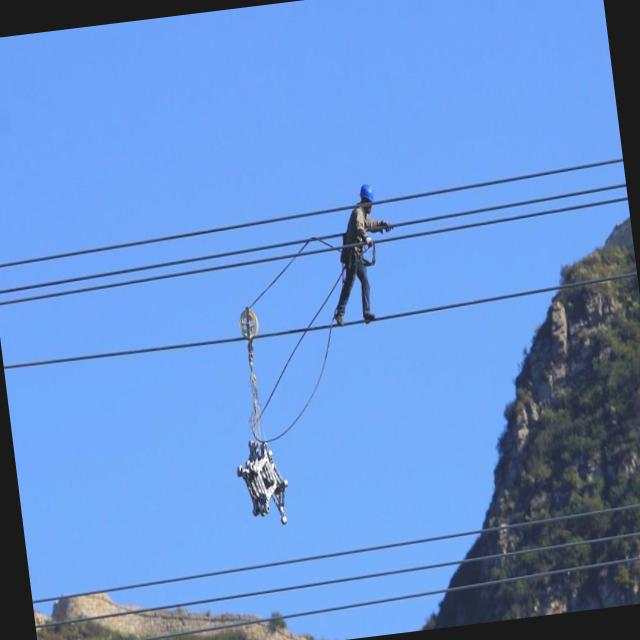helmet: (356, 181, 378, 214)
